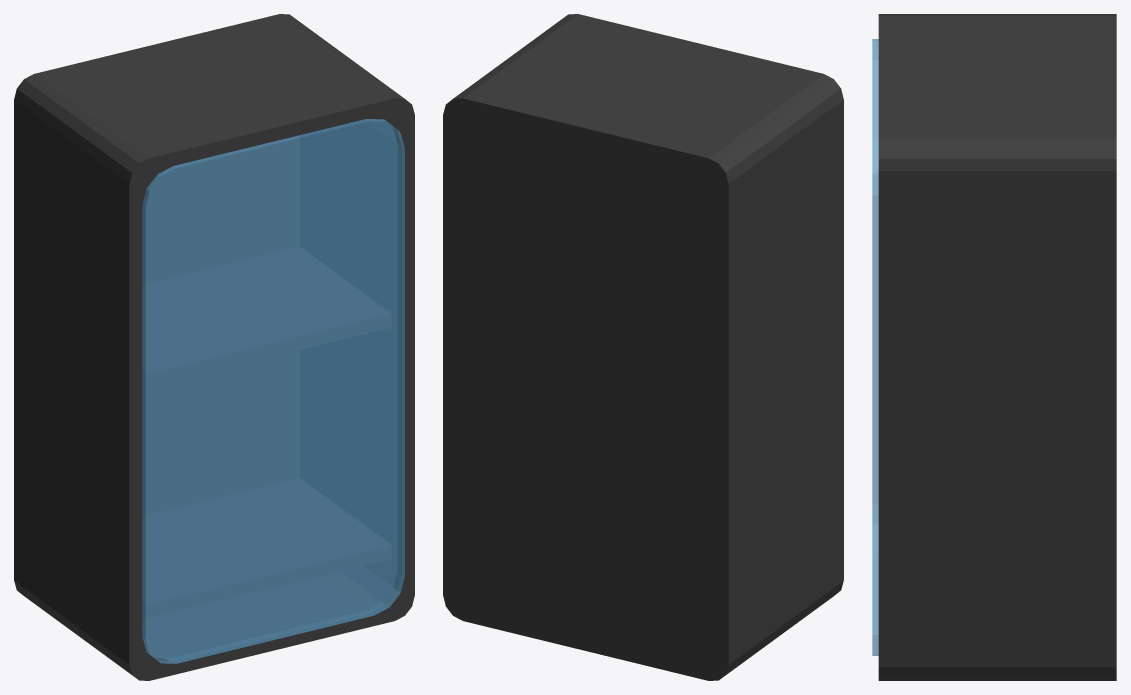
File: LockBox.fbx
3 views of the same model, side by side, from view 1: azimuth 30°, elevation 25°; view 2: azimuth 150°, elevation 25°; view 3: azimuth 270°, elevation 25° (orthographic). The views are drawn at different scales.
Parts seen in each view (by area): view 1: LockBox, LockBox.001; view 2: LockBox; view 3: LockBox, LockBox.001.
Part boxes in pixels (x1,y1,x2,y2): LockBox: [14, 14, 414, 680]; LockBox.001: [142, 119, 404, 663]; LockBox: [443, 14, 843, 680]; LockBox: [878, 14, 1116, 680]; LockBox.001: [872, 39, 878, 655].
Size of the model in its own units: 40 by 70 by 28.76.
